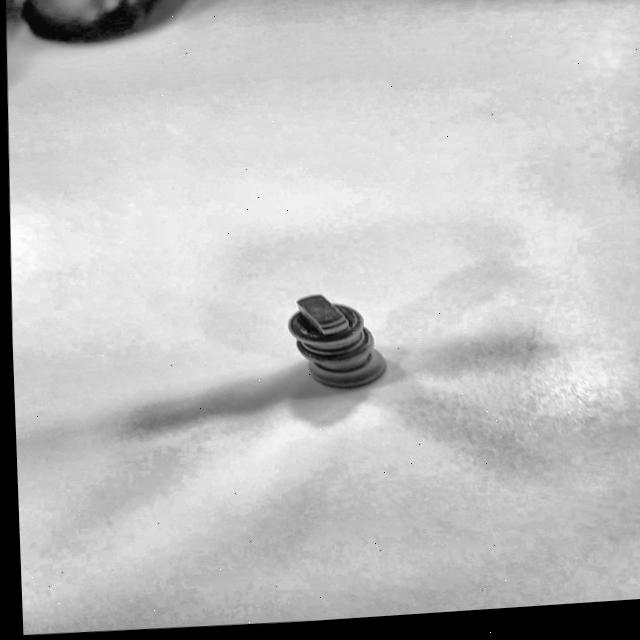black-king: (266, 276, 406, 405)
